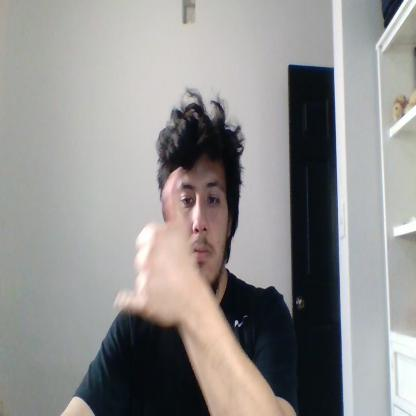Y: (115, 166, 196, 326)
